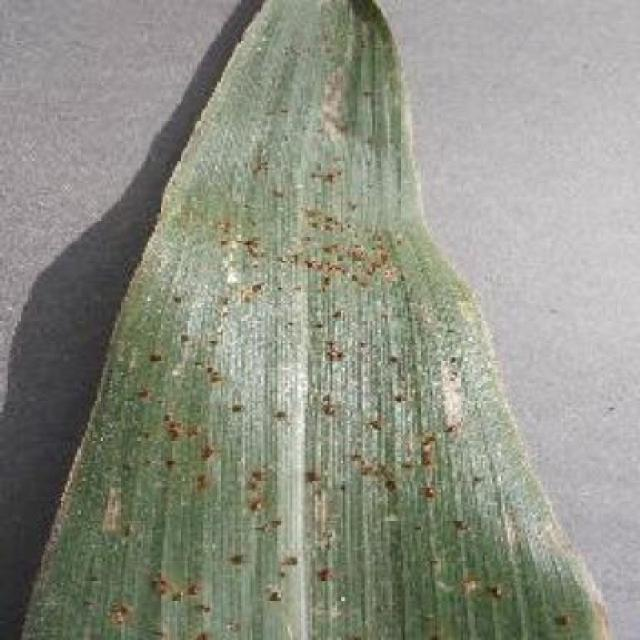Corn_Rust: (108, 177, 486, 640)
